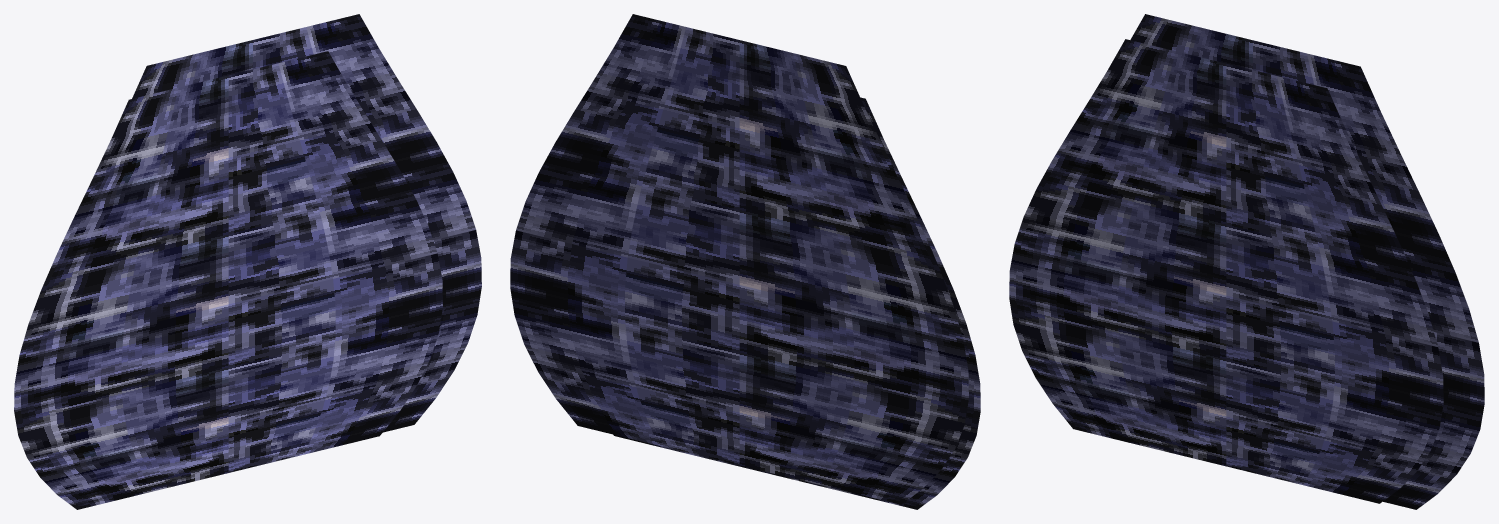
Rendered from pref_PokemonBagPage.fbx.
3 renders of one model, left to right at view 1: azimuth 30°, elevation 25°; view 2: azimuth 150°, elevation 25°; view 3: azimuth 330°, elevation 25°, orthographic.
Visible parts, largest first — view 1: role (×2); view 2: role (×2); view 3: role (×2).
Boxes of the visible parts, left/top/right/bottom form: role (×2): left=14, top=14, right=481, bottom=509; role (×2): left=510, top=14, right=980, bottom=509; role (×2): left=1009, top=14, right=1484, bottom=509.
Size of the model in its own units: 582 by 506 by 1.8.
